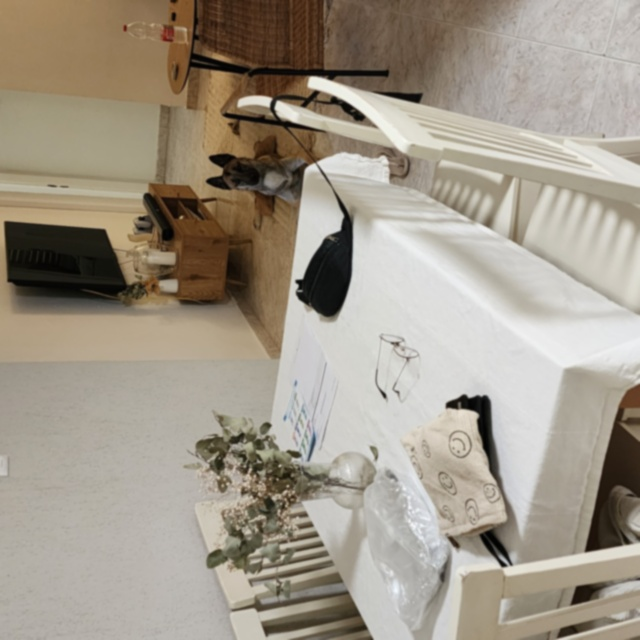glasses: (372, 330, 420, 403)
